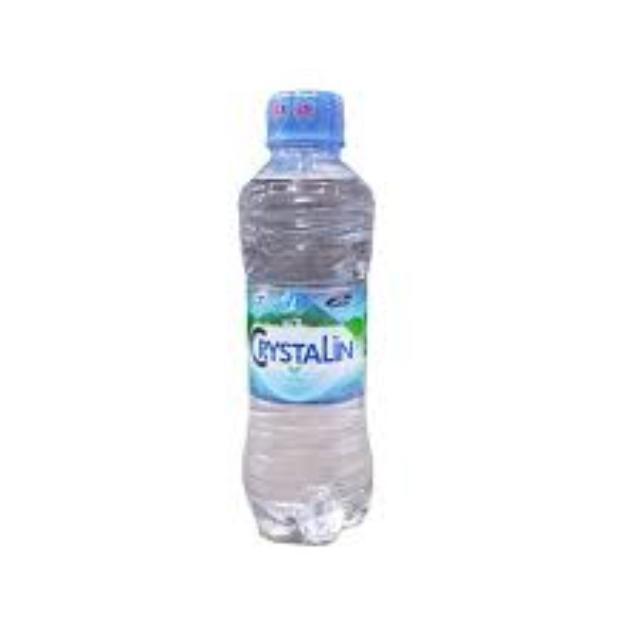trash: (236, 86, 378, 548)
